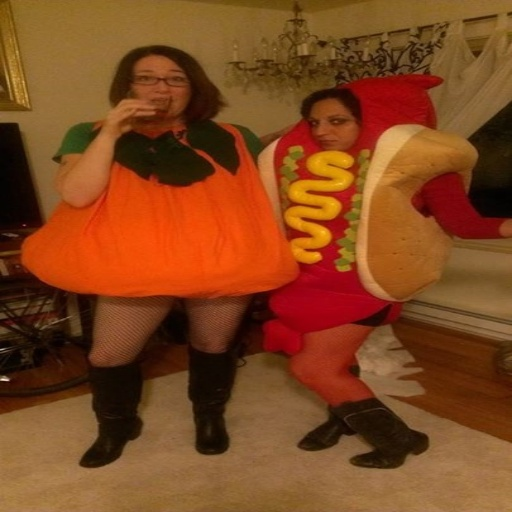hand: (85, 91, 141, 138), (278, 120, 292, 136)
